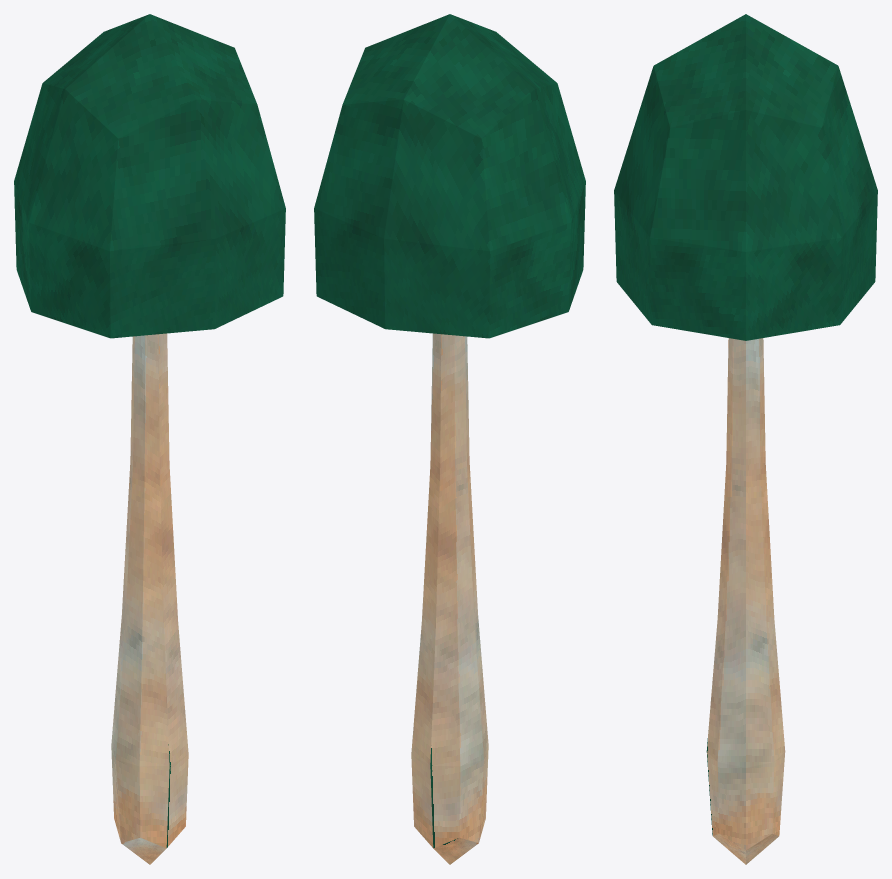
File: mushroom_01.glb
3 views of the same model, side by side, from view 1: azimuth 30°, elevation 25°; view 2: azimuth 150°, elevation 25°; view 3: azimuth 270°, elevation 25° (orthographic).
Parts seen in each view (by area): view 1: MUSH_01-no-col; view 2: MUSH_01-no-col; view 3: MUSH_01-no-col.
Part boxes in pixels (left/top/right/bottom): MUSH_01-no-col: left=14, top=14, right=285, bottom=864; MUSH_01-no-col: left=314, top=14, right=585, bottom=864; MUSH_01-no-col: left=614, top=14, right=877, bottom=864.
Bounding box in the file's own units: 0.8186 × 2.75 × 0.7724.
1 material, 1 textured.
